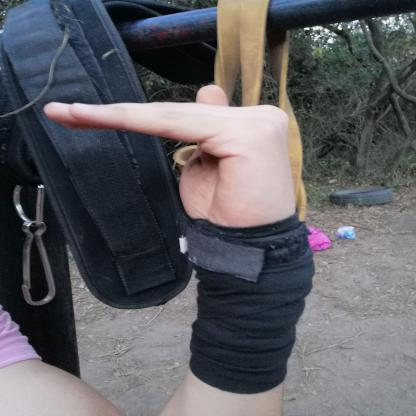KHAA: (31, 74, 322, 241)
